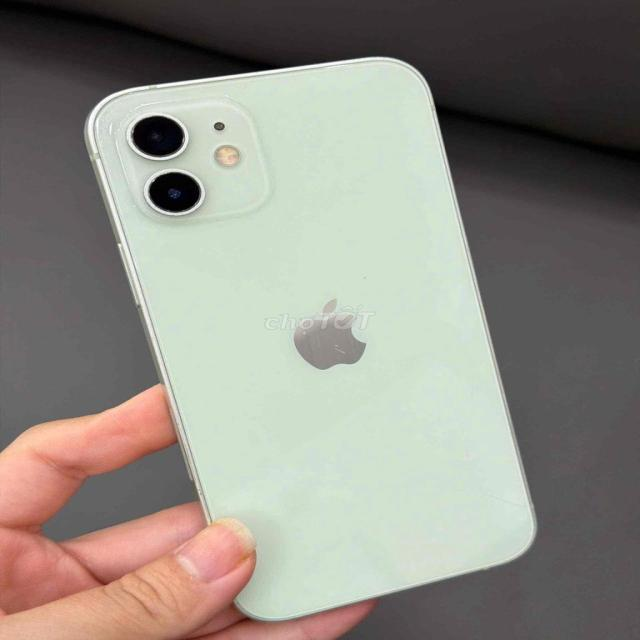gen_12_13: (73, 53, 539, 623)
